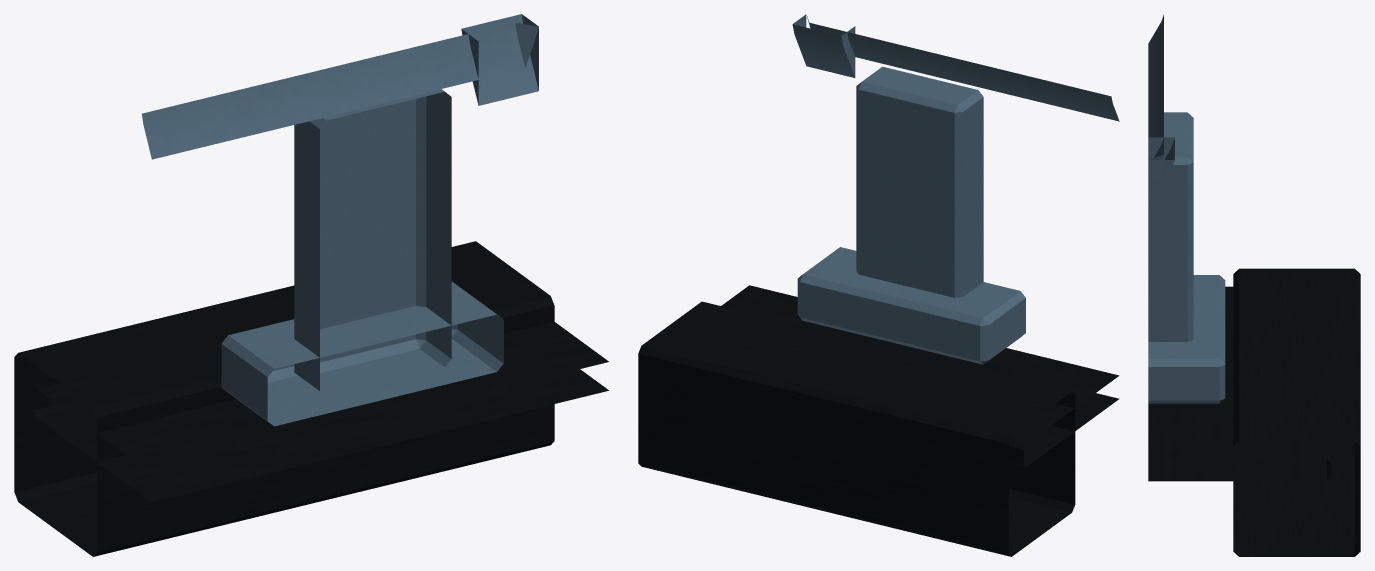
The model's file is cell_2.obj.
3 views of the same model, side by side, from view 1: azimuth 30°, elevation 25°; view 2: azimuth 150°, elevation 25°; view 3: azimuth 270°, elevation 25° (orthographic). The views are drawn at different scales.
Visible parts, largest first — view 1: cell_2; view 2: cell_2; view 3: cell_2.
Boxes of the visible parts, x1,y1,x2,y2 form: cell_2: (14, 14, 608, 556); cell_2: (638, 14, 1119, 556); cell_2: (1148, 14, 1360, 556).
Bounding box in the file's own units: 1 × 1 × 0.52.
